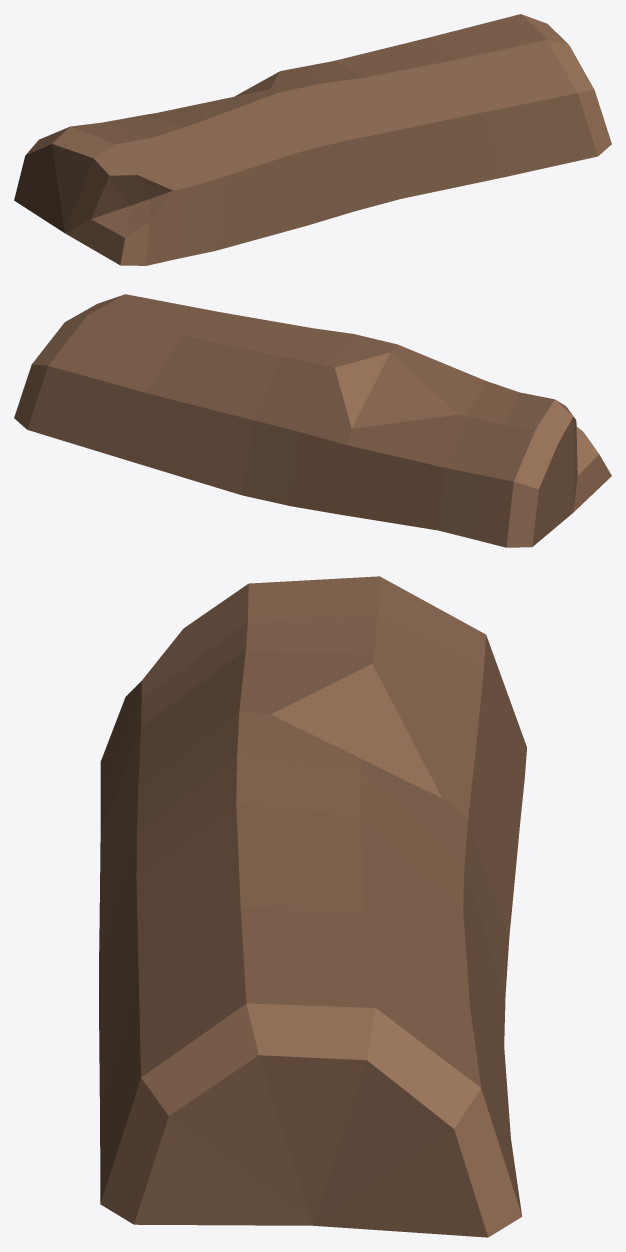
File: Firewood_02.fbx
3 views of the same model, one above another, from view 1: azimuth 30°, elevation 25°; view 2: azimuth 150°, elevation 25°; view 3: azimuth 270°, elevation 25° (orthographic). The views are drawn at different scales.
Visible parts, largest first — view 1: Firewood_02; view 2: Firewood_02; view 3: Firewood_02.
Part boxes in pixels (<box>): Firewood_02: <box>14,14,611,265</box>; Firewood_02: <box>14,294,611,547</box>; Firewood_02: <box>99,576,526,1237</box>.
Size of the model in its own units: 70.92 by 16.23 by 25.24.
